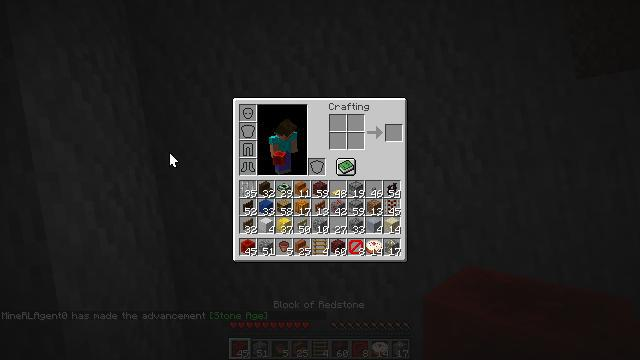cursor: (152, 169, 168, 179)
